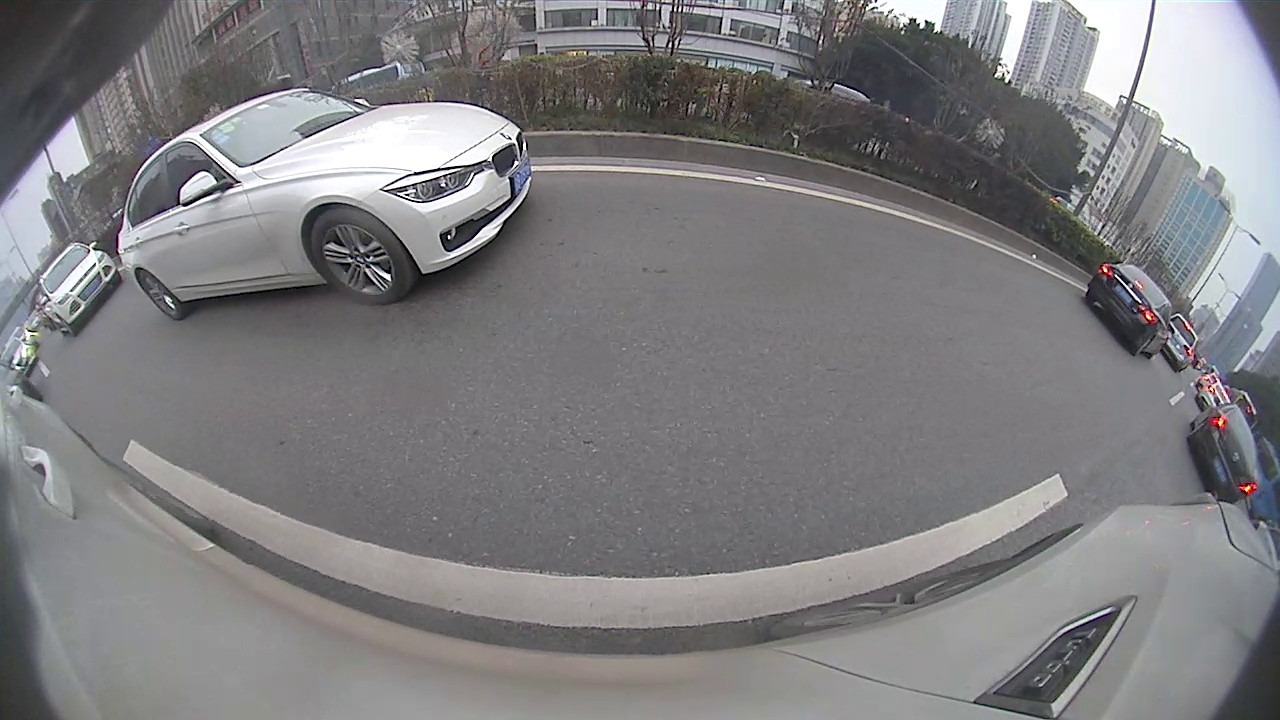car: (118, 85, 535, 319), (1084, 261, 1175, 361), (1188, 395, 1263, 505), (36, 241, 121, 338), (1161, 314, 1202, 372)
front: (311, 208, 408, 308)
rear: (135, 270, 182, 319)
